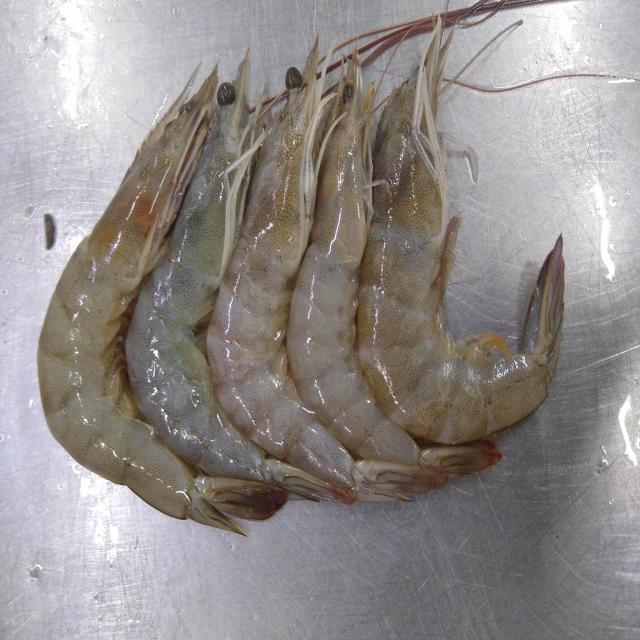shrimp: (36, 65, 243, 533), (357, 19, 565, 444), (206, 38, 355, 492), (125, 53, 265, 481), (287, 52, 421, 465)
